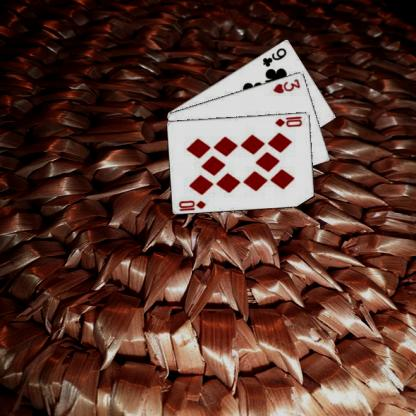10D: (272, 113, 304, 128), (177, 197, 208, 212)
3H: (270, 76, 302, 94)
9C: (260, 45, 288, 68)
